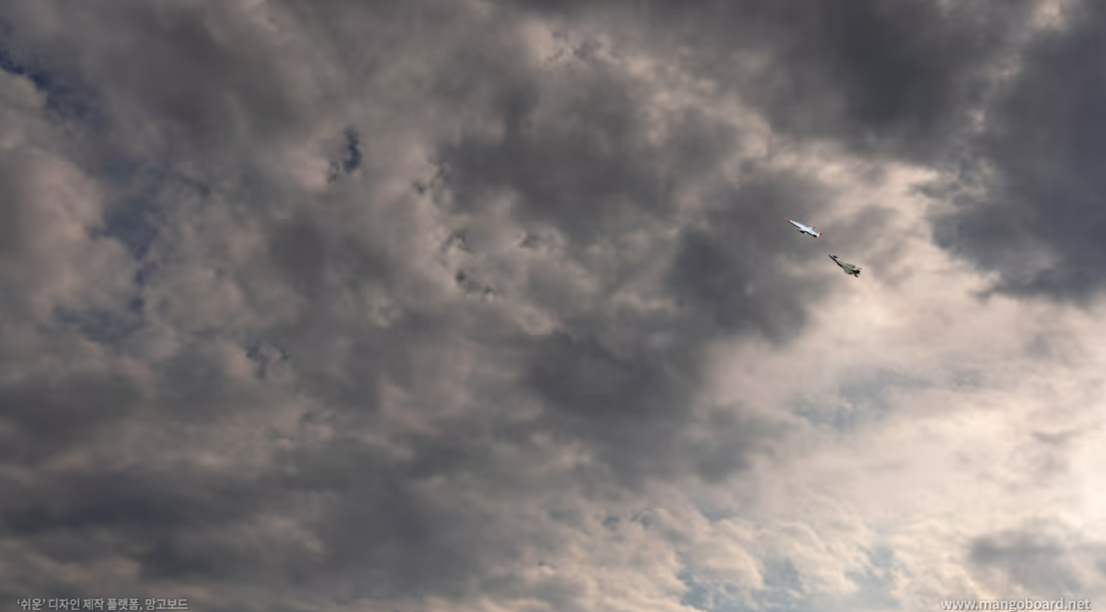airplane: (827, 253, 862, 277)
military drone: (784, 215, 823, 238)
